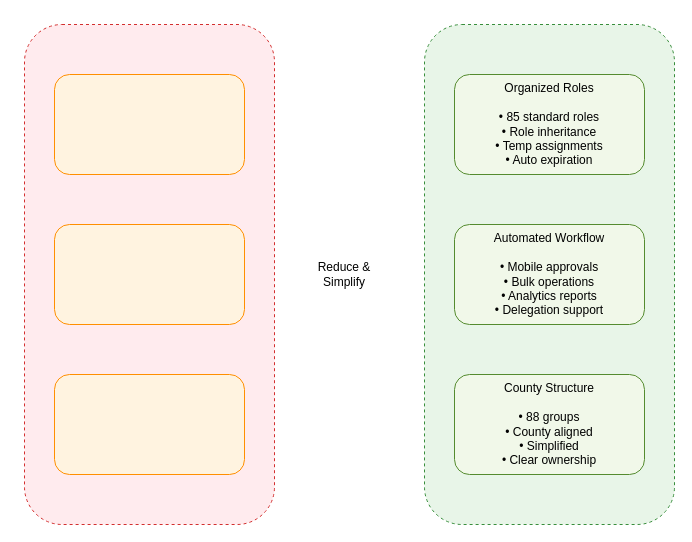
The diagram is 692 pixels wide and 542 high, and some of its shapes have lost their labels. Here are the shapes that lost their labels. From the top down, the centre of each, then its label:
(149,124): Role Chaos • 2,847 permissions • 340 role definitions • Overlapping • No cleanup
(149,274): Manual Approvals • Slow processes • Paper forms • No tracking • Inconsistent
(149,424): Business Units • 156 groups • Misaligned • Duplicate • Confusing
